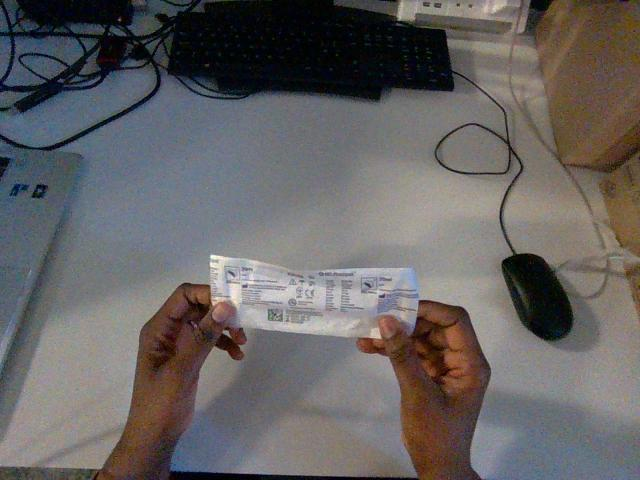syringe: (210, 255, 418, 337)
